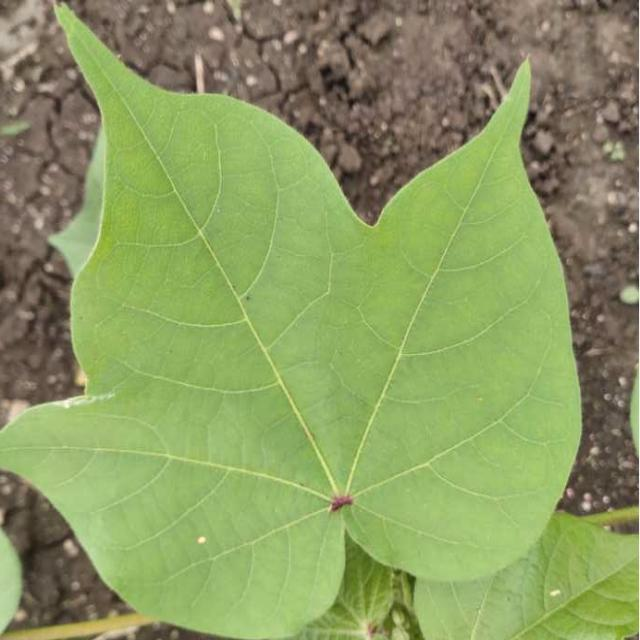Healthy Leaf: (124, 135, 296, 562)
